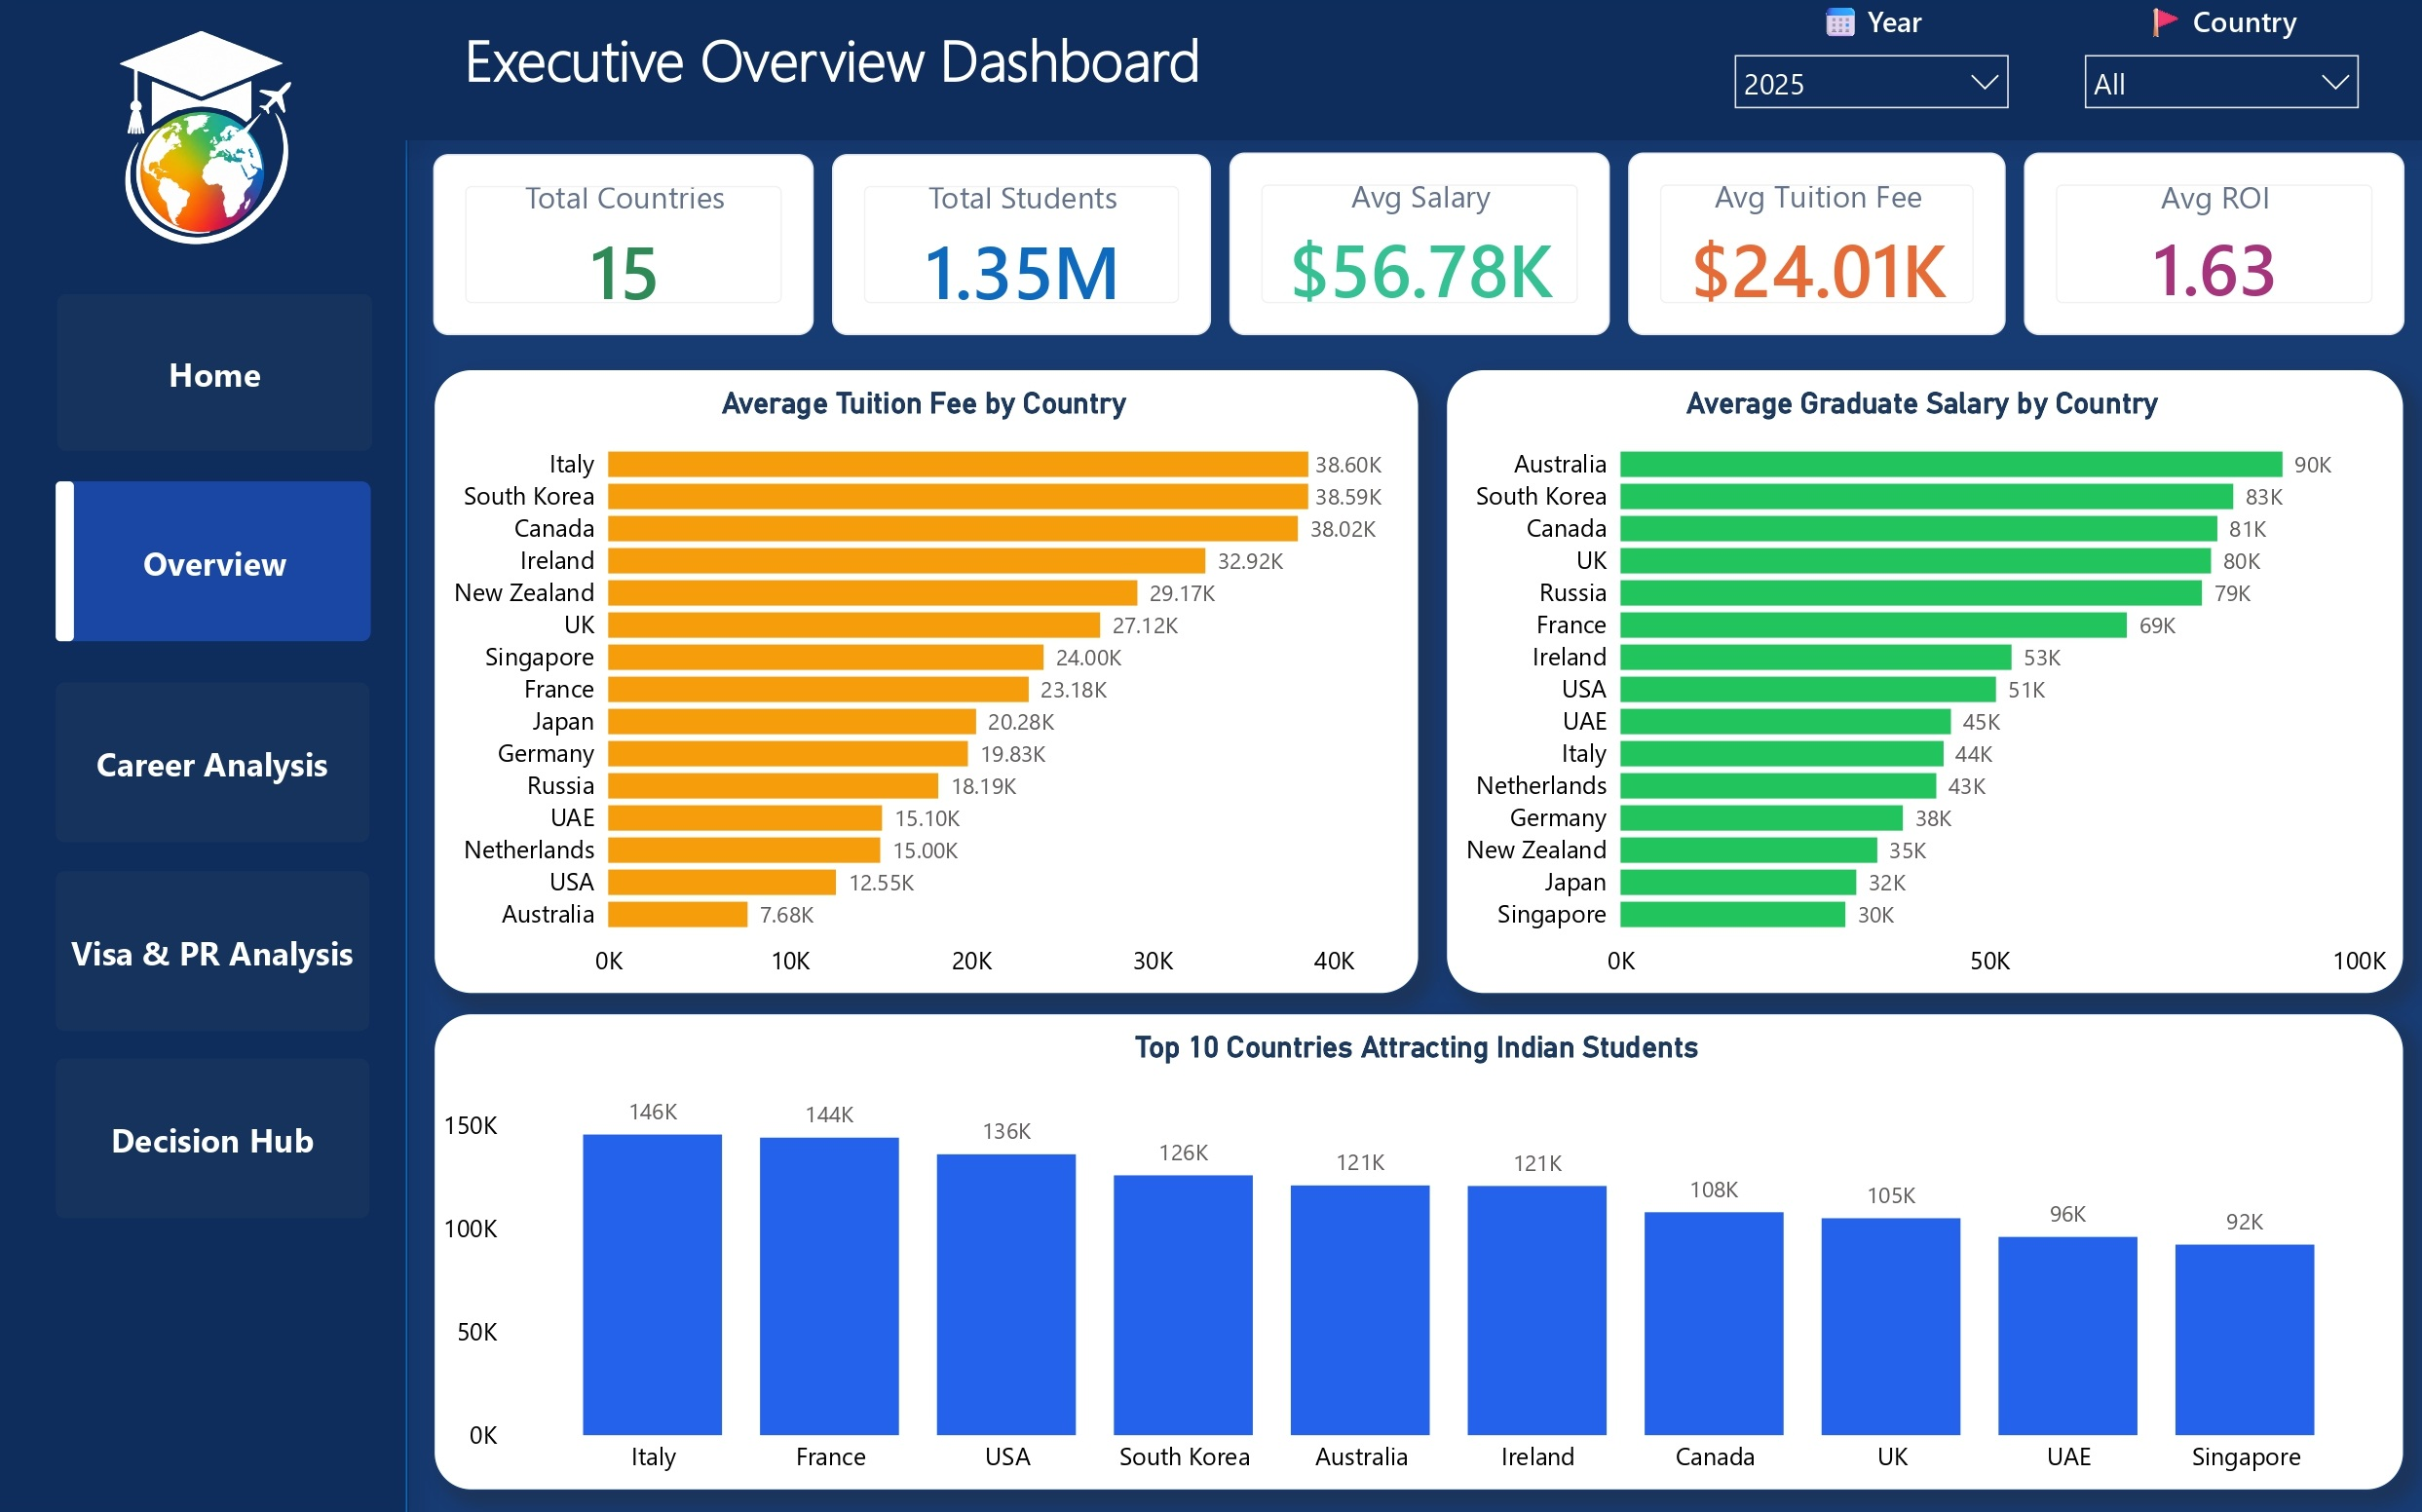

The page's visual inventory and layout, read from the dashboard file:
{"tool":"powerbi","page":{"name":"Overview","canvas":[1600,1000],"ordinal":1},"visuals":[{"type":"group","id":"g1","title":"Complete Nav","box":[0,0,1599.6,1000],"z":0},{"type":"actionButton","box":[42.6,196,207.3,103.3],"z":0,"group":"g2"},{"type":"shape","box":[0,68,273.7,932],"z":1000,"group":"g1"},{"type":"cardVisual","fields":{"Data":["study_abroad_features_latest.Avg Salary"]},"box":[813.2,103.3,250,120],"z":1000},{"type":"actionButton","box":[43.4,318.8,204.9,105.2],"z":1000,"group":"g2"},{"type":"cardVisual","fields":{"Data":["study_abroad_features_latest.Total Countries"]},"box":[290,103.9,249.7,119.4],"z":2000},{"type":"actionButton","box":[41.7,451.2,205.7,105],"z":2000,"group":"g2"},{"type":"shape","box":[0,0,1599.6,94.8],"z":3000,"group":"g1"},{"type":"cardVisual","fields":{"Data":["study_abroad_features_latest.Avg Tuition Fee"]},"box":[1075.1,103.3,248.3,120],"z":3000},{"type":"actionButton","box":[41.7,574.8,205.7,105],"z":3000,"group":"g2"},{"type":"clusteredBarChart","title":"Average Tuition Fee by Country","fields":{"Y":["Sum(study_abroad_features_latest.Tuition_Fee_USD)"],"Category":["study_abroad_features_latest.Country_Display"]},"box":[290,245,648.3,411],"z":4000},{"type":"actionButton","box":[41.7,698.5,205.7,105],"z":4000,"group":"g2"},{"type":"clusteredBarChart","title":"Average Graduate Salary by Country","fields":{"Y":["Avg(study_abroad_features_latest.Average_Graduate_Salary_USD)"],"Category":["study_abroad_features_latest.Country_Display"]},"box":[955.3,245,629.7,411],"z":5000},{"type":"columnChart","title":"Top 10 Countries Attracting Indian Students","fields":{"Category":["study_abroad_features_latest.Country_Display"],"Y":["Sum(study_abroad_features_latest.Number_of_Indian_Students)"]},"box":[290,668.4,1295,313.3],"z":6000},{"type":"cardVisual","fields":{"Data":["study_abroad_features_latest.Avg ROI"]},"box":[1335,103.3,250,120],"z":7000},{"type":"cardVisual","fields":{"Data":["study_abroad_features_latest.Total Students"]},"box":[551.6,103.9,249.7,119.4],"z":8000},{"type":"shape","box":[41.7,319.4,12.2,105],"z":9000},{"type":"slicer","title":"🚩 Country","fields":{"Values":["study_abroad_features_latest.Country"]},"box":[1364.7,3.5,199.9,84.2],"z":11000,"group":"g1"},{"type":"slicer","title":"📅 Year","fields":{"Values":["study_abroad_features_latest.Year"]},"box":[1134.7,3.5,199.9,84.2],"z":12000,"group":"g1"},{"type":"image","box":[26,4,224,180],"z":13000,"group":"g1"},{"type":"group","id":"g2","title":"Navigation Buttons","box":[41.7,196,208.2,607.4],"z":14000,"group":"g1"},{"type":"textbox","title":"Heading","box":[306,10.7,578,68],"z":14500,"group":"g1"}]}

Visuals, with their boxes in screenshot pixels (x1, y1, x2, y2), scaled from the page's 1600x1000 canvas onto the 2422x1512 screenshot:
"Complete Nav" group: {"left": 0, "top": 0, "right": 2421, "bottom": 1511}
actionButton: {"left": 64, "top": 296, "right": 378, "bottom": 453}
shape: {"left": 0, "top": 103, "right": 414, "bottom": 1511}
cardVisual - study_abroad_features_latest.Avg Salary: {"left": 1231, "top": 156, "right": 1609, "bottom": 338}
actionButton: {"left": 65, "top": 482, "right": 376, "bottom": 641}
cardVisual - study_abroad_features_latest.Total Countries: {"left": 439, "top": 157, "right": 817, "bottom": 338}
actionButton: {"left": 63, "top": 682, "right": 374, "bottom": 841}
shape: {"left": 0, "top": 0, "right": 2421, "bottom": 143}
cardVisual - study_abroad_features_latest.Avg Tuition Fee: {"left": 1627, "top": 156, "right": 2003, "bottom": 338}
actionButton: {"left": 63, "top": 869, "right": 374, "bottom": 1028}
"Average Tuition Fee by Country" clusteredBarChart: {"left": 439, "top": 370, "right": 1420, "bottom": 992}
actionButton: {"left": 63, "top": 1056, "right": 374, "bottom": 1215}
"Average Graduate Salary by Country" clusteredBarChart: {"left": 1446, "top": 370, "right": 2400, "bottom": 992}
"Top 10 Countries Attracting Indian Students" columnChart: {"left": 439, "top": 1010, "right": 2400, "bottom": 1485}
cardVisual - study_abroad_features_latest.Avg ROI: {"left": 2021, "top": 156, "right": 2400, "bottom": 338}
cardVisual - study_abroad_features_latest.Total Students: {"left": 835, "top": 157, "right": 1213, "bottom": 338}
shape: {"left": 63, "top": 483, "right": 82, "bottom": 642}
"🚩 Country" slicer: {"left": 2065, "top": 5, "right": 2368, "bottom": 132}
"📅 Year" slicer: {"left": 1718, "top": 5, "right": 2021, "bottom": 132}
image: {"left": 39, "top": 6, "right": 378, "bottom": 279}
"Navigation Buttons" group: {"left": 63, "top": 296, "right": 378, "bottom": 1215}
"Heading" textbox: {"left": 463, "top": 17, "right": 1339, "bottom": 119}
